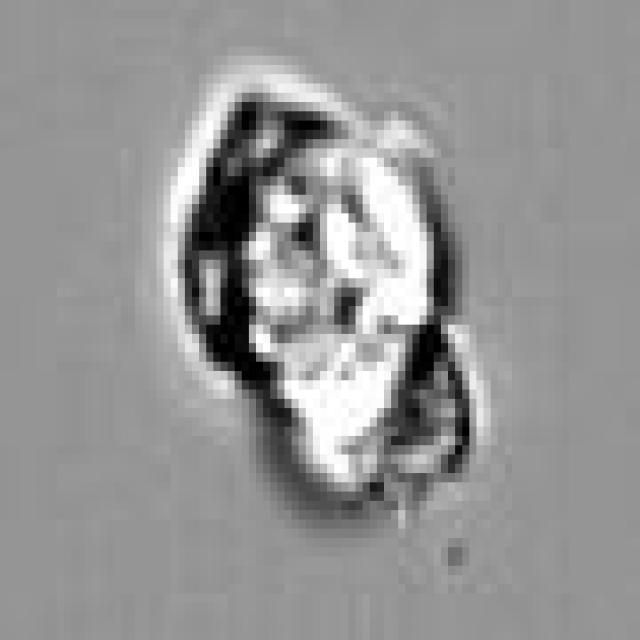Cancer Cell: (178, 74, 426, 408)
WBC: (320, 316, 469, 482)
